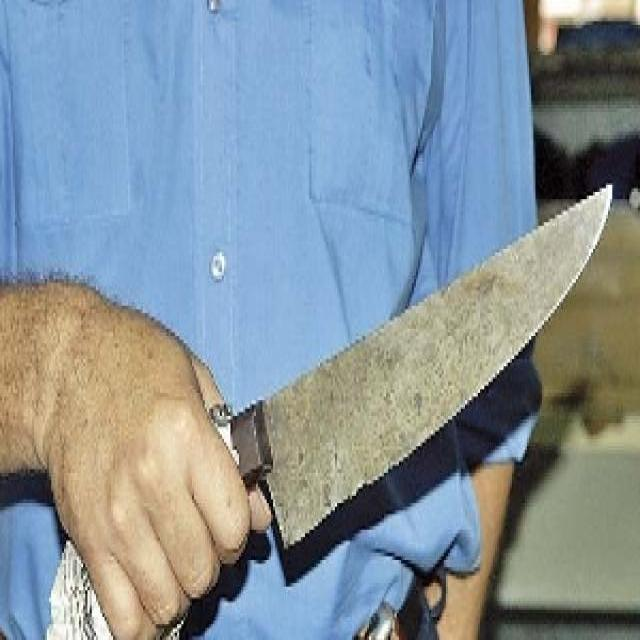knife: (258, 169, 620, 556)
